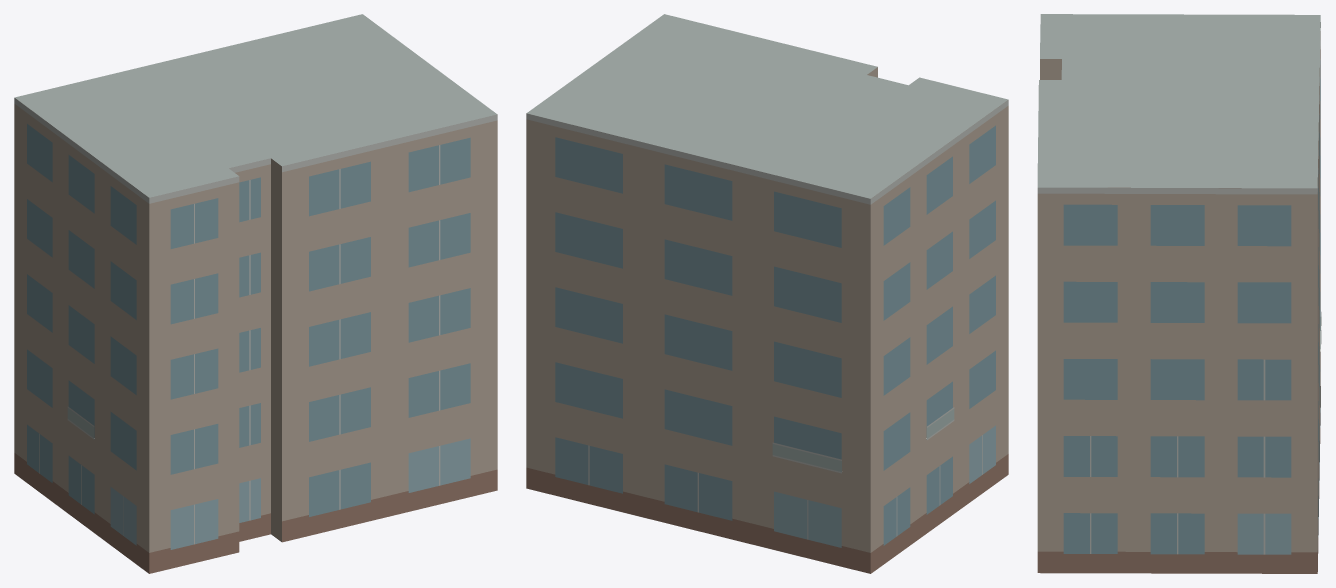
Rendered from survey-upis-33012564.glb.
3 views of the same model, side by side, from view 1: azimuth 30°, elevation 25°; view 2: azimuth 150°, elevation 25°; view 3: azimuth 270°, elevation 25° (orthographic). The views are drawn at different scales.
Parts seen in each view (by area): view 1: survey-upis-33012564.tmp; view 2: survey-upis-33012564.tmp; view 3: survey-upis-33012564.tmp.
Boxes of the visible parts, x1,y1,x2,y2 form: survey-upis-33012564.tmp: (14,14,497,573); survey-upis-33012564.tmp: (526,14,1008,573); survey-upis-33012564.tmp: (1037,14,1321,573).
Bounding box in the file's own units: 14.95 × 15.4 × 10.29.
